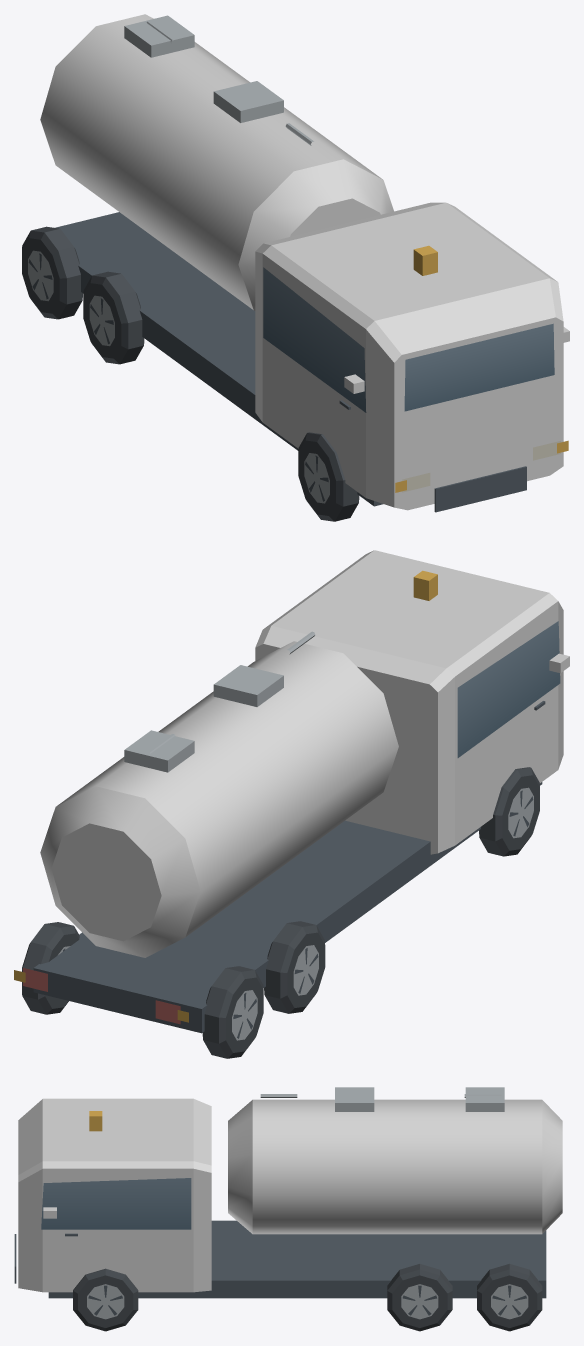
The model's file is tanker.glb.
3 renders of one model, top to bottom at view 1: azimuth 30°, elevation 25°; view 2: azimuth 150°, elevation 25°; view 3: azimuth 270°, elevation 25°, orthographic. The views are drawn at different scales.
Parts seen in each view (by area): view 1: body; view 2: body; view 3: body.
Boxes of the visible parts, x1,y1,x2,y2 form: body: (22, 14, 569, 521); body: (14, 550, 569, 1058); body: (14, 1087, 562, 1331).
Size of the model in its own units: 2.24 by 2.73 by 6.81.
